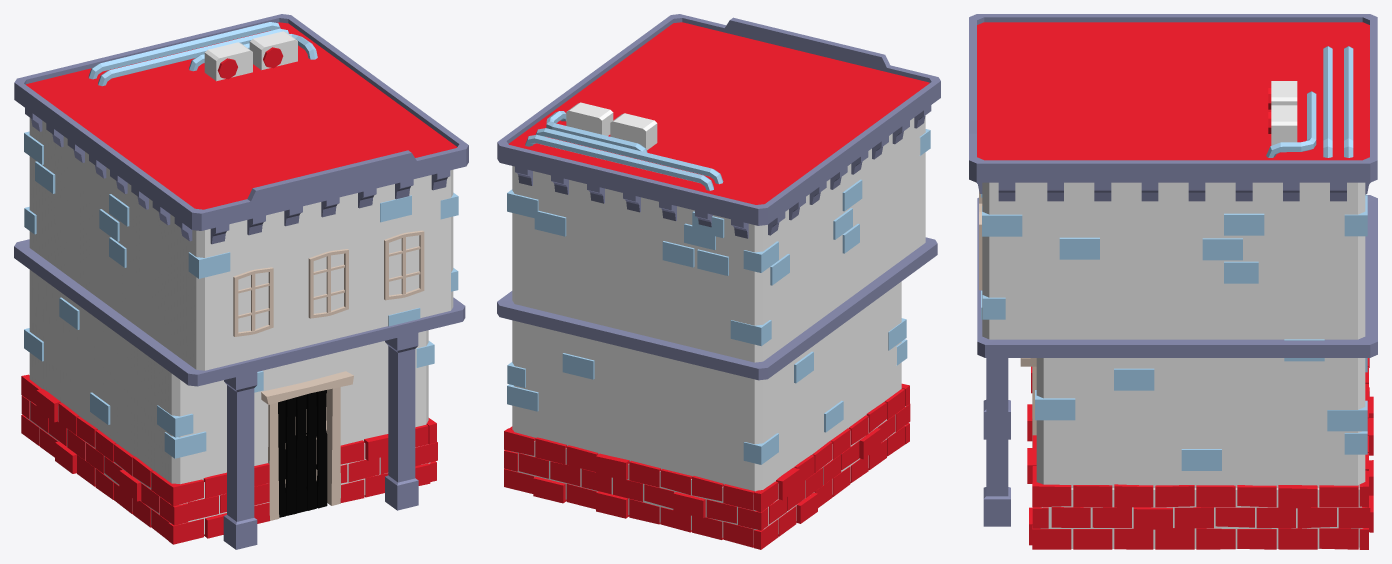
File: building_quaternius_2Story_Columns.glb
3 views of the same model, side by side, from view 1: azimuth 30°, elevation 25°; view 2: azimuth 150°, elevation 25°; view 3: azimuth 270°, elevation 25° (orthographic). The views are drawn at different scales.
Bounding box in the file's own units: 2.16 × 2.77 × 2.49.
Materials: 1 (1 with a texture image).
